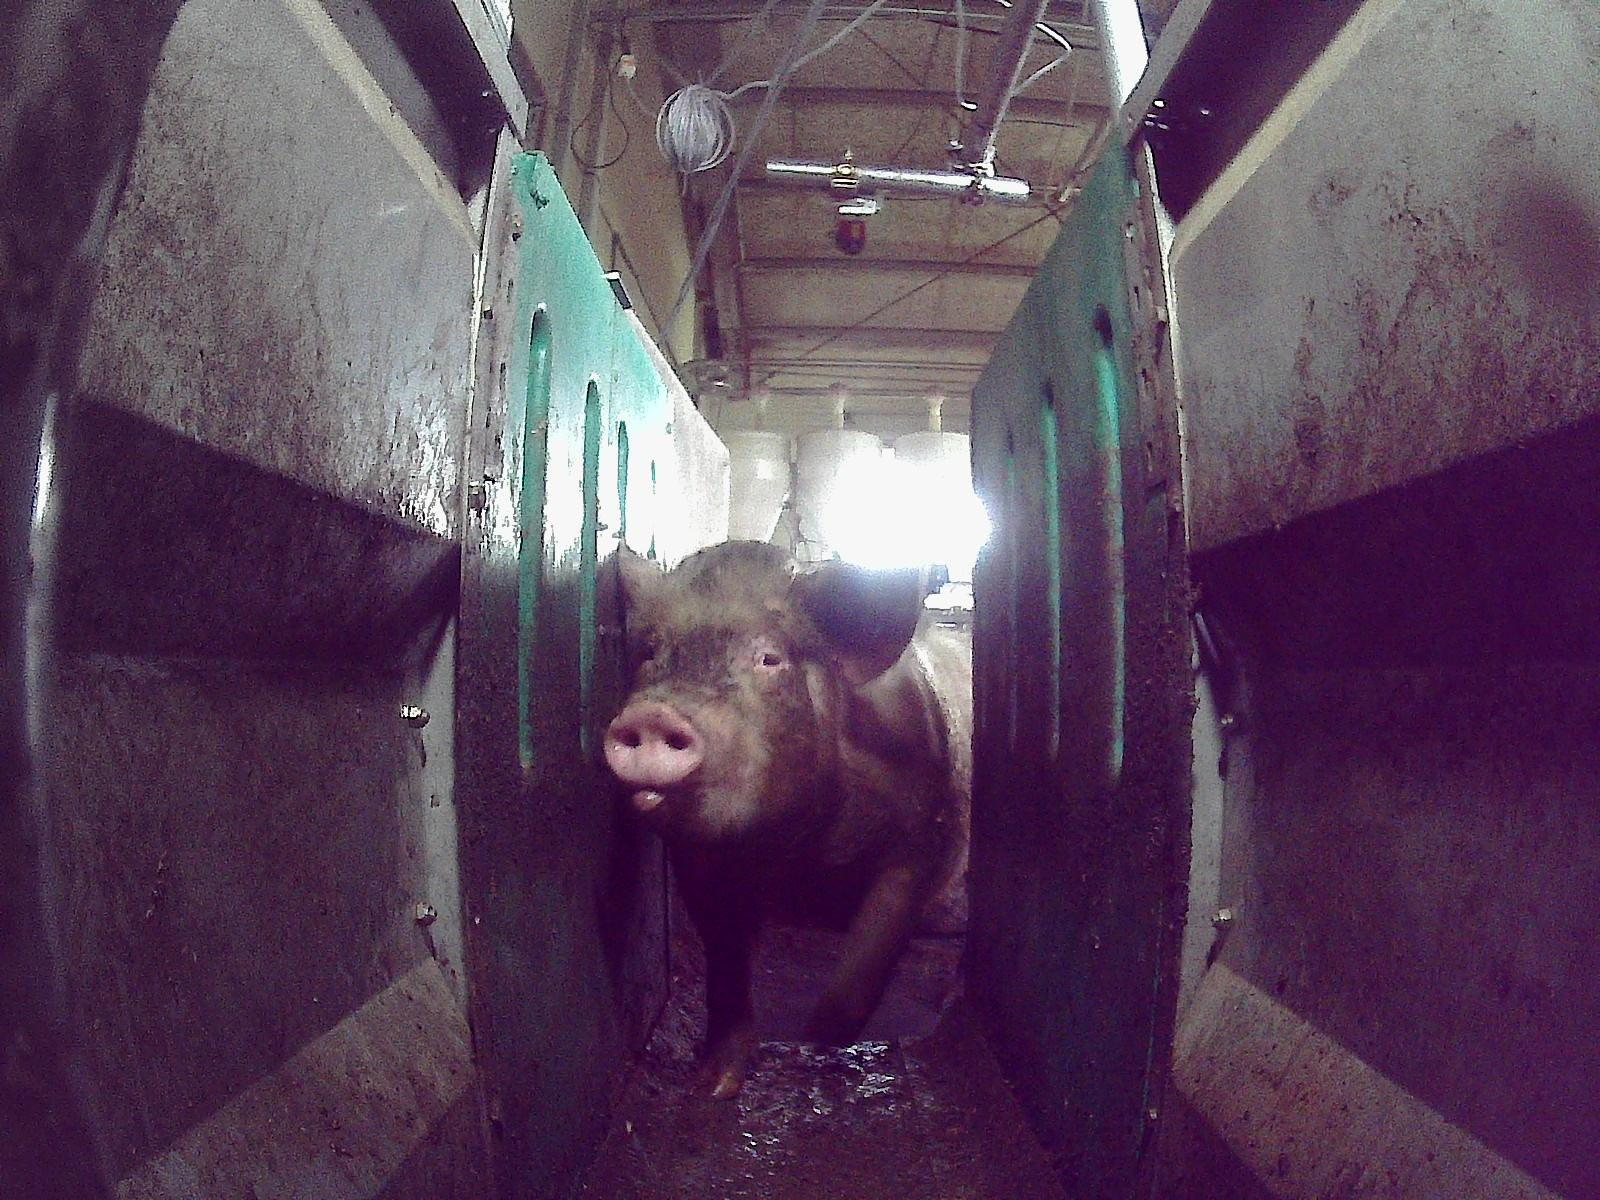Face: (600, 538, 837, 839)
